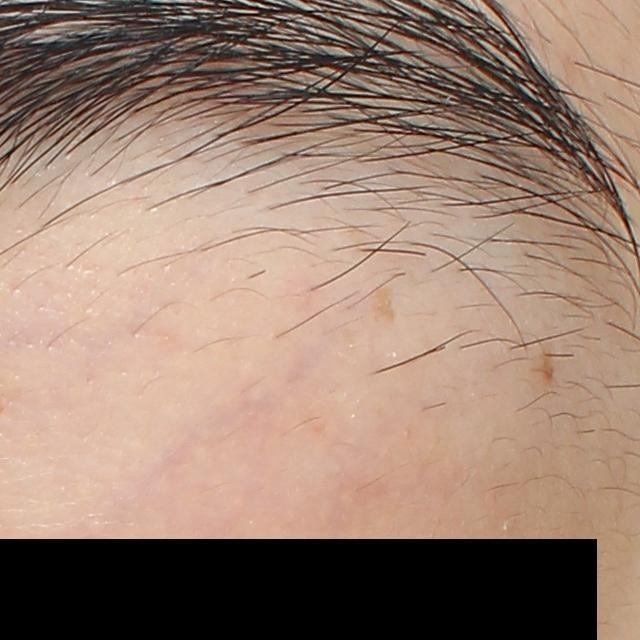melasma: (366, 283, 401, 327), (537, 345, 558, 388)
